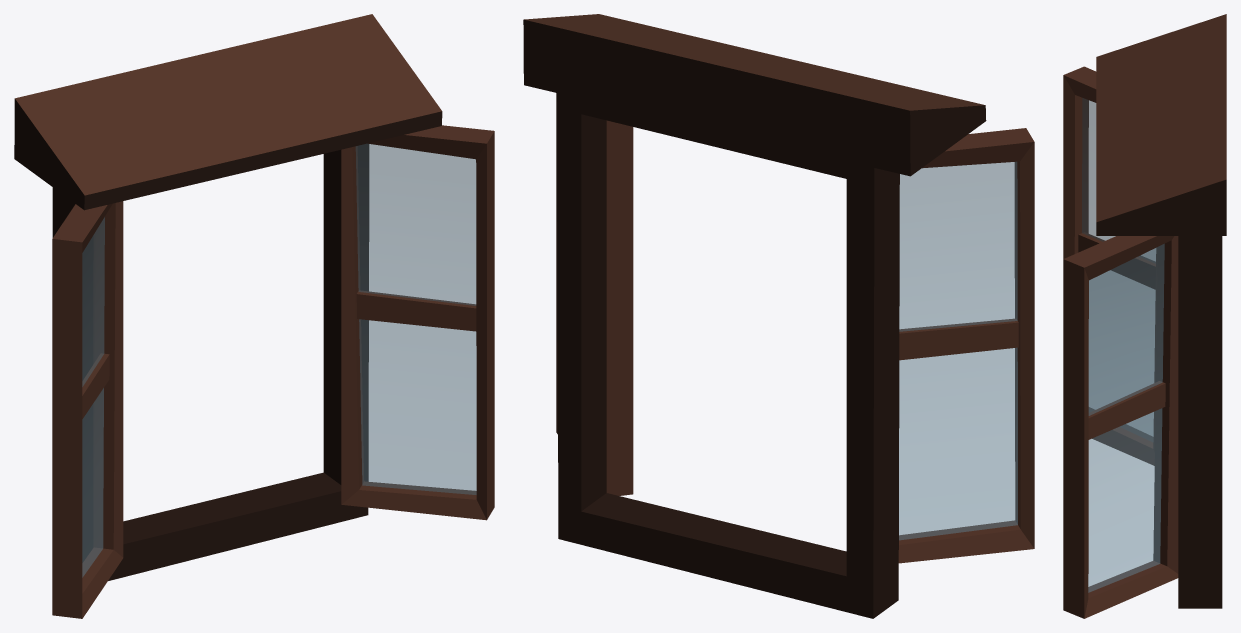
The model's file is Window 2x2 V3 Open v1.glb.
The picture shows the model from 3 angles, left to right: view 1: azimuth 30°, elevation 25°; view 2: azimuth 150°, elevation 25°; view 3: azimuth 270°, elevation 25°; orthographic projection. The views are drawn at different scales.
Parts seen in each view (by area): view 1: Window 2x2 V3 Open v1; view 2: Window 2x2 V3 Open v1; view 3: Window 2x2 V3 Open v1.
Part boxes in pixels (x1=…): Window 2x2 V3 Open v1: x1=14, y1=14, x2=494, y2=618; Window 2x2 V3 Open v1: x1=523, y1=14, x2=1034, y2=618; Window 2x2 V3 Open v1: x1=1063, y1=14, x2=1226, y2=618.
Size of the model in its own units: 1.74 by 1.8 by 0.5952.
Materials: 2 (2 with a texture image).
